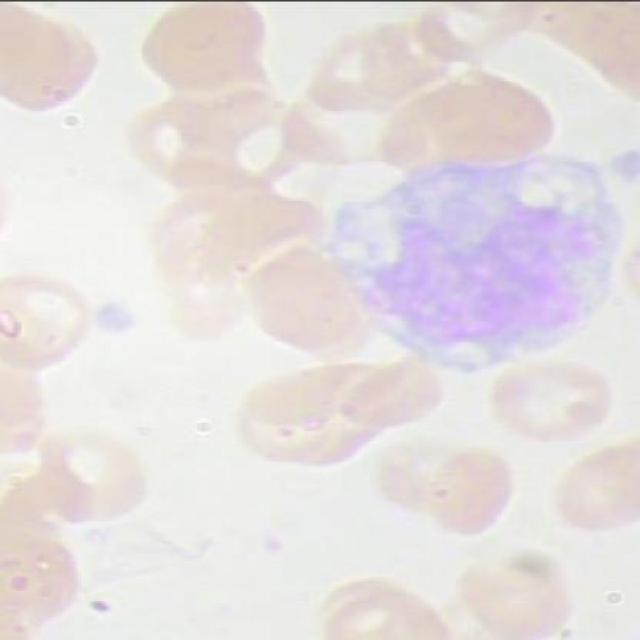Platelets: (93, 291, 142, 337)
RBC: (415, 62, 557, 166), (28, 411, 161, 522), (2, 0, 112, 134), (238, 373, 370, 484), (230, 248, 372, 350), (470, 354, 624, 448), (135, 1, 277, 102), (118, 90, 240, 204), (448, 537, 577, 638), (427, 440, 536, 540), (1, 266, 94, 376), (318, 564, 454, 639), (540, 434, 638, 538), (331, 353, 460, 429)
WBC: (320, 145, 634, 361)
